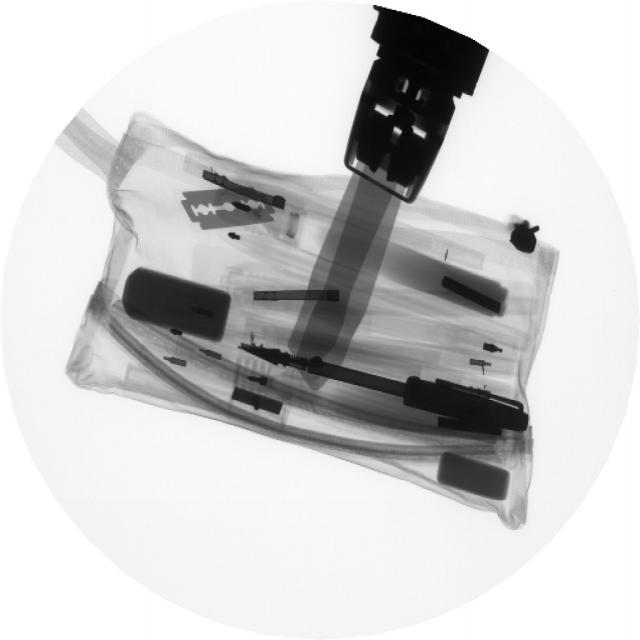BLADE: (177, 172, 290, 241)
